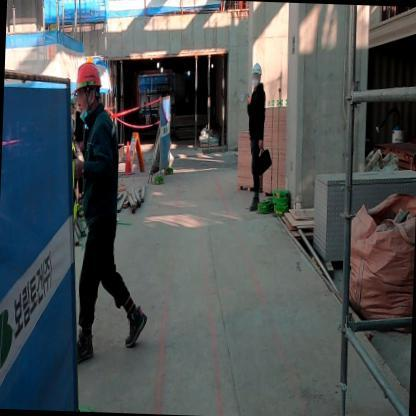Helmet: (71, 61, 106, 98)
safety-shoe: (121, 306, 154, 358), (72, 326, 99, 373)
